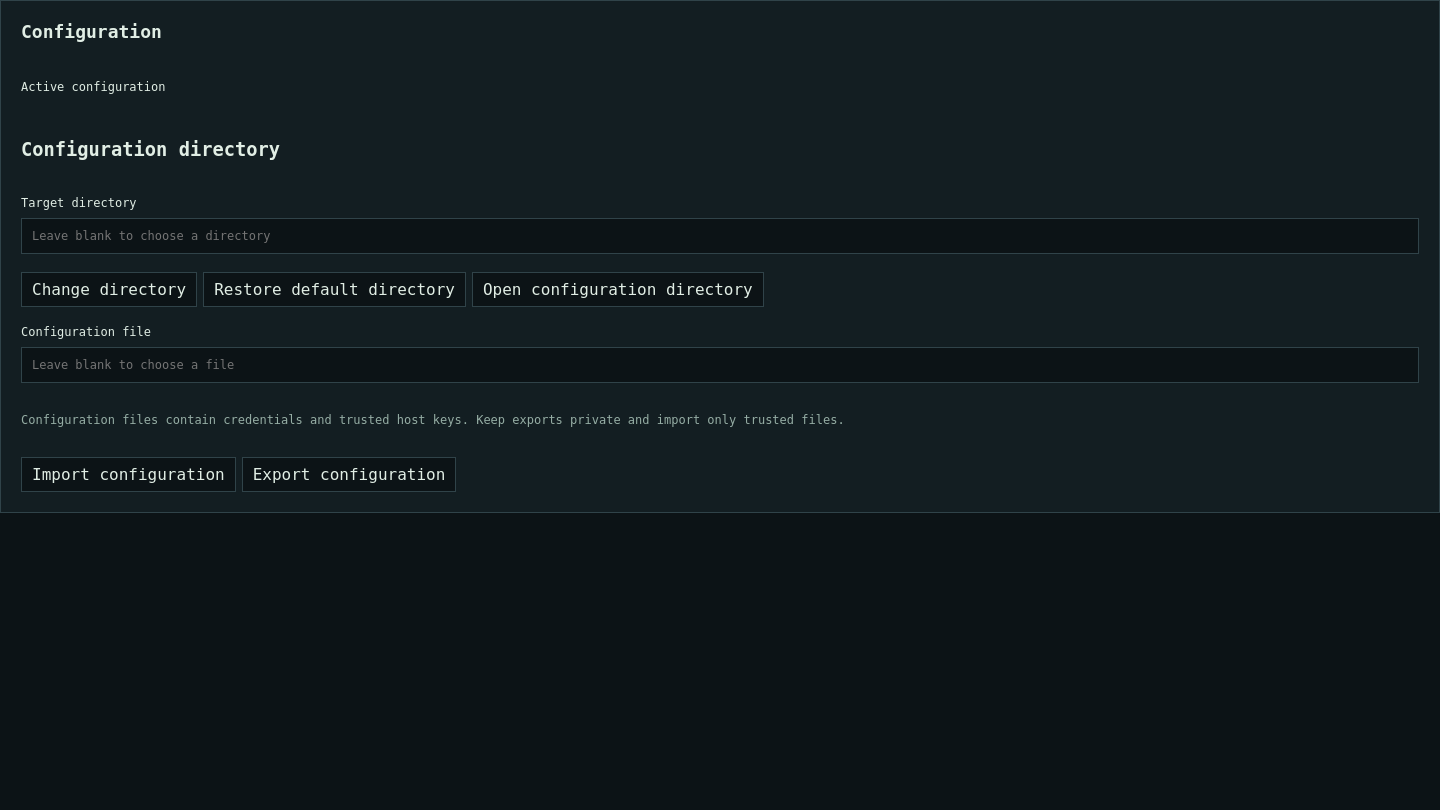
it: cancelling a picker or export confirmation does not write files
What coordinates should you click on to do the following:
click the button "Export configuration"
I would click on:
 (349, 475)
Its box is [242,457,456,492].
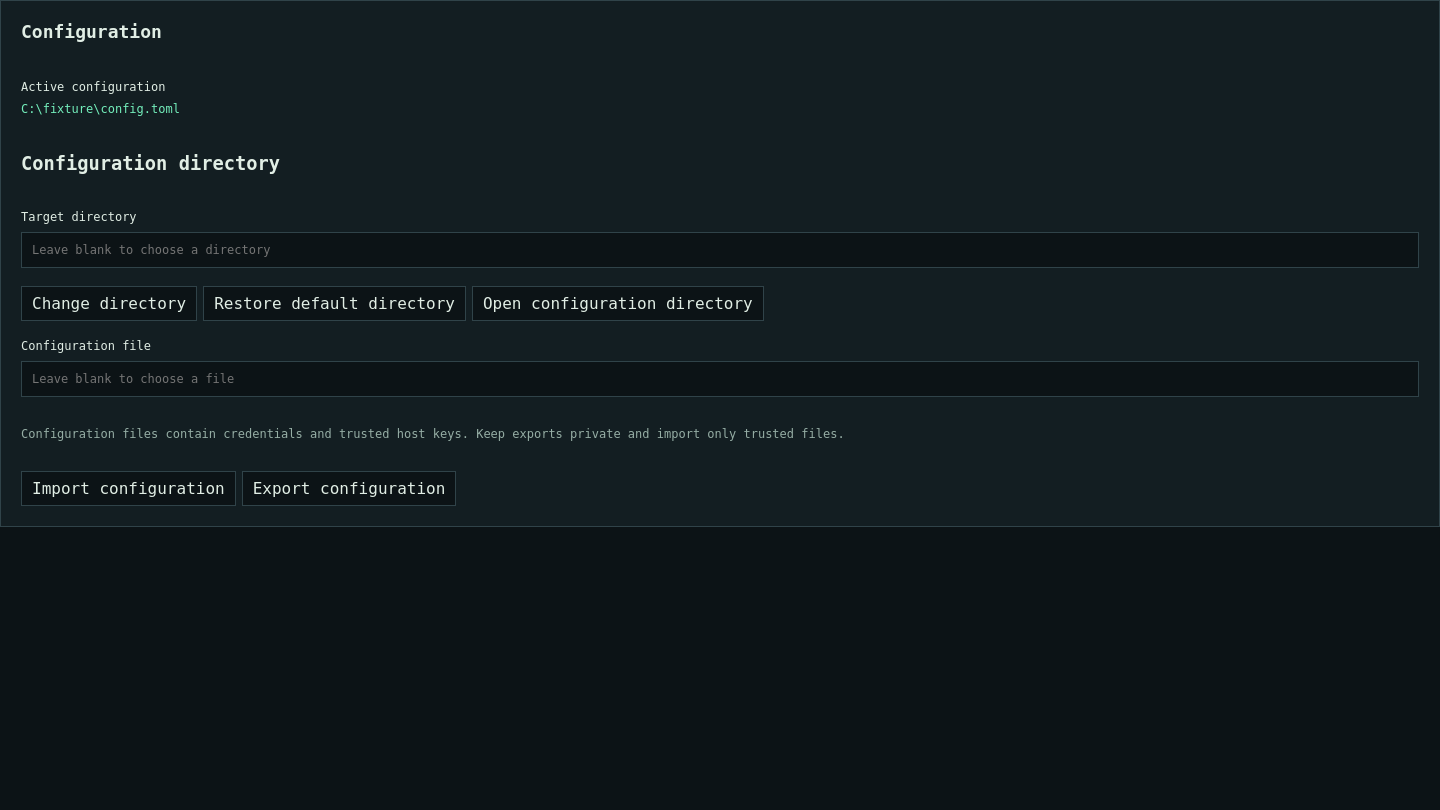
What coordinates should you click on to do the following:
click the button "Export configuration"
I would click on:
 (349, 489)
Its box is [242,471,456,506].
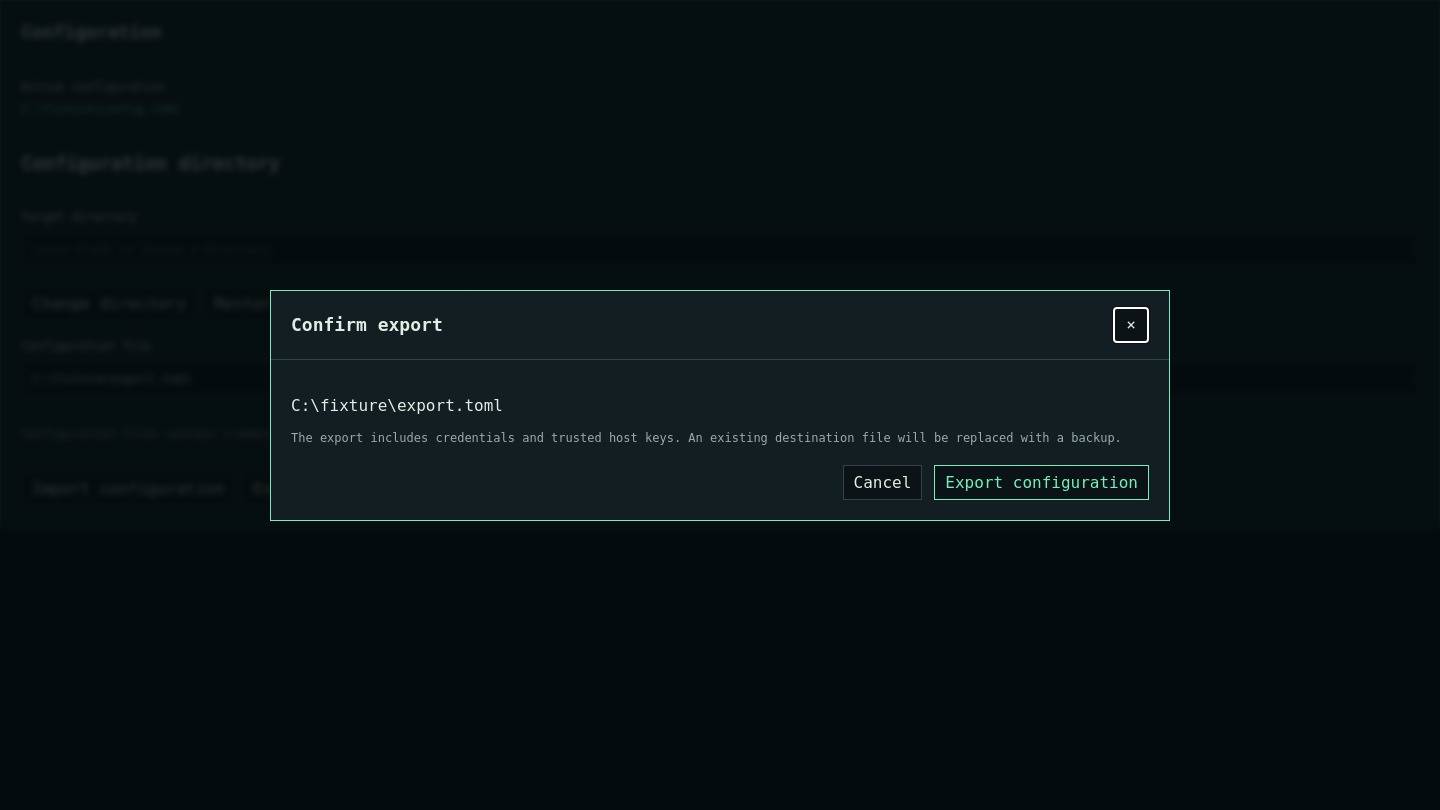
What coordinates should you click on to do the following:
click the button "Cancel"
I would click on:
 (882, 482)
Its box is [842,464,922,500].
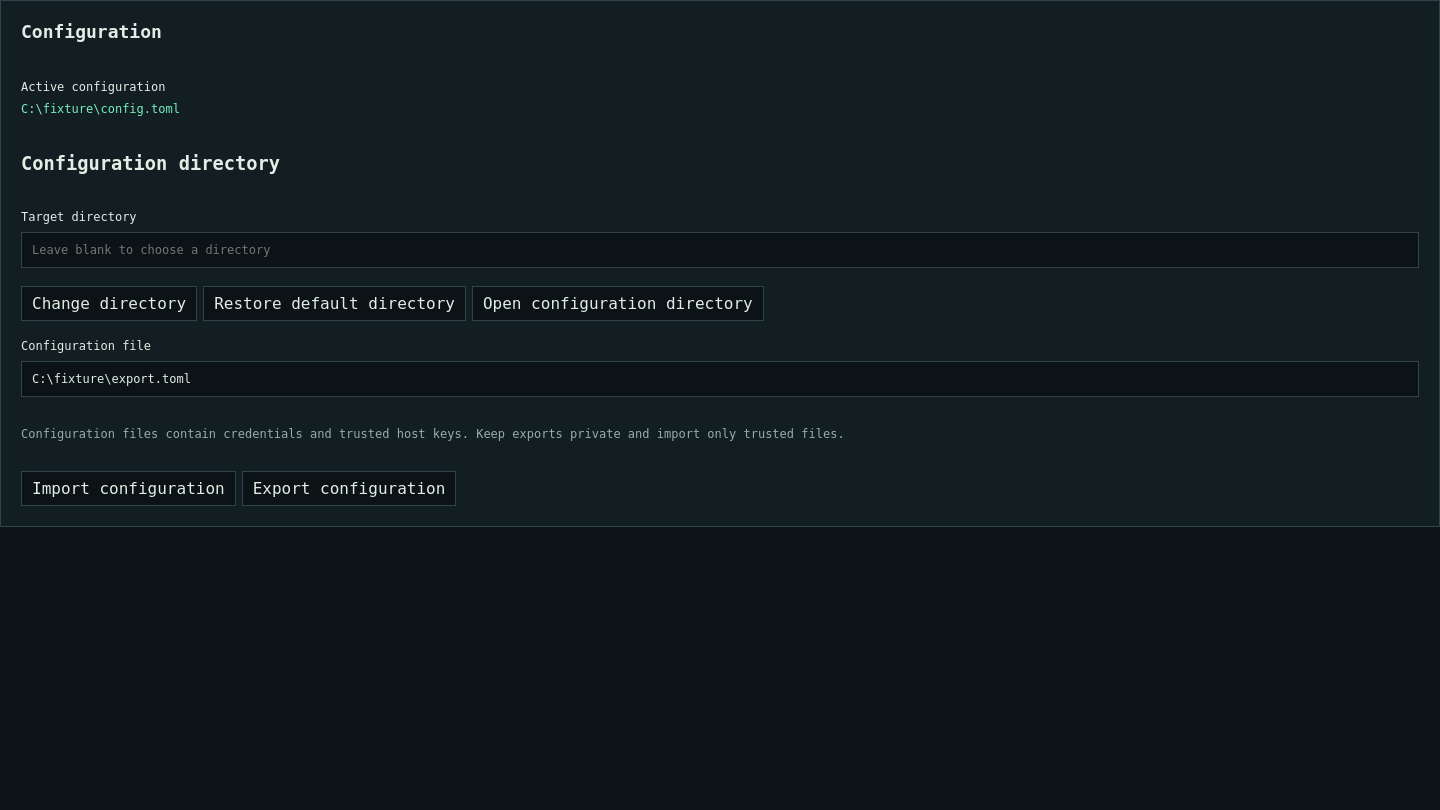
Expected: the dialog is gone
